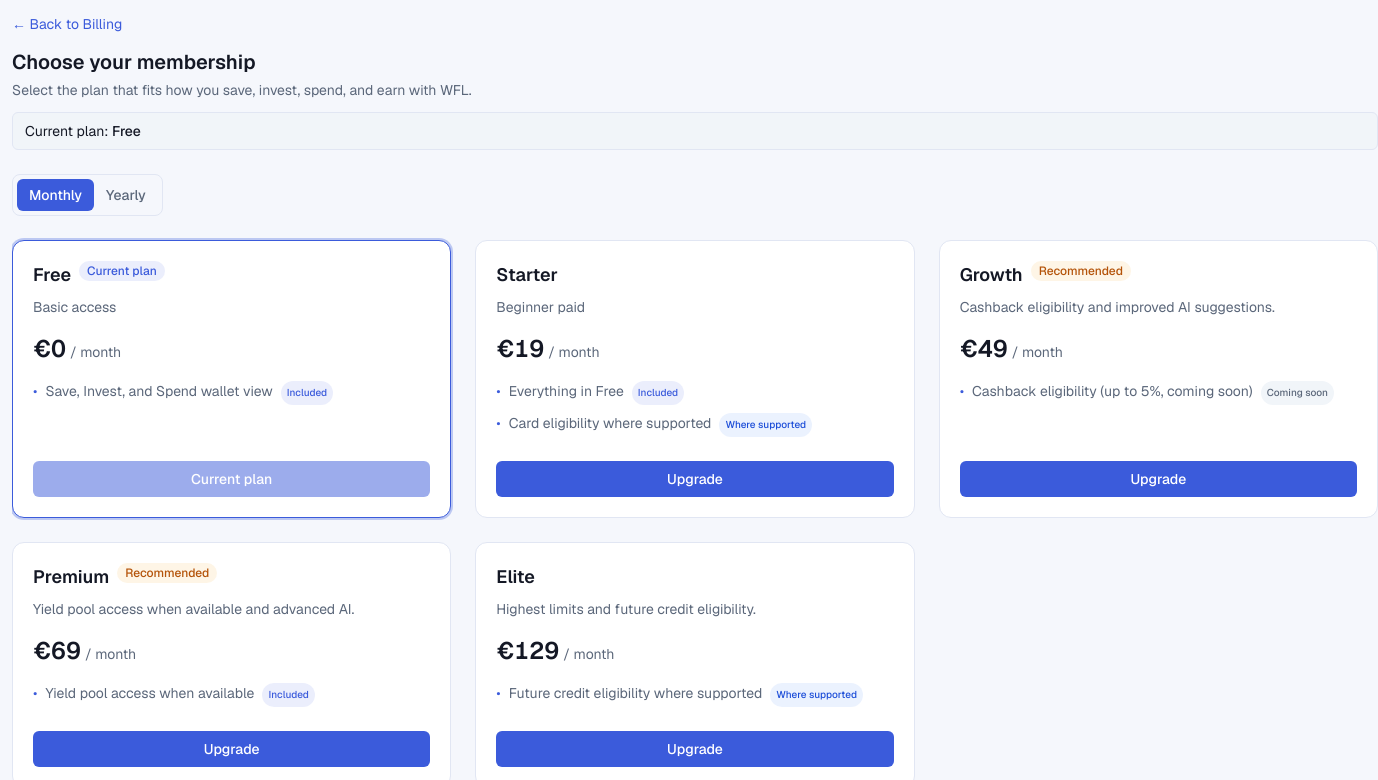
Test: UpgradePlansContent › shows error when checkout succeeds without a payment link
The width and height of the screenshot is (1378, 780).
Click the button "Upgrade" below "Card eligibility where supported".
click(695, 479)  # box [496, 461, 894, 497]
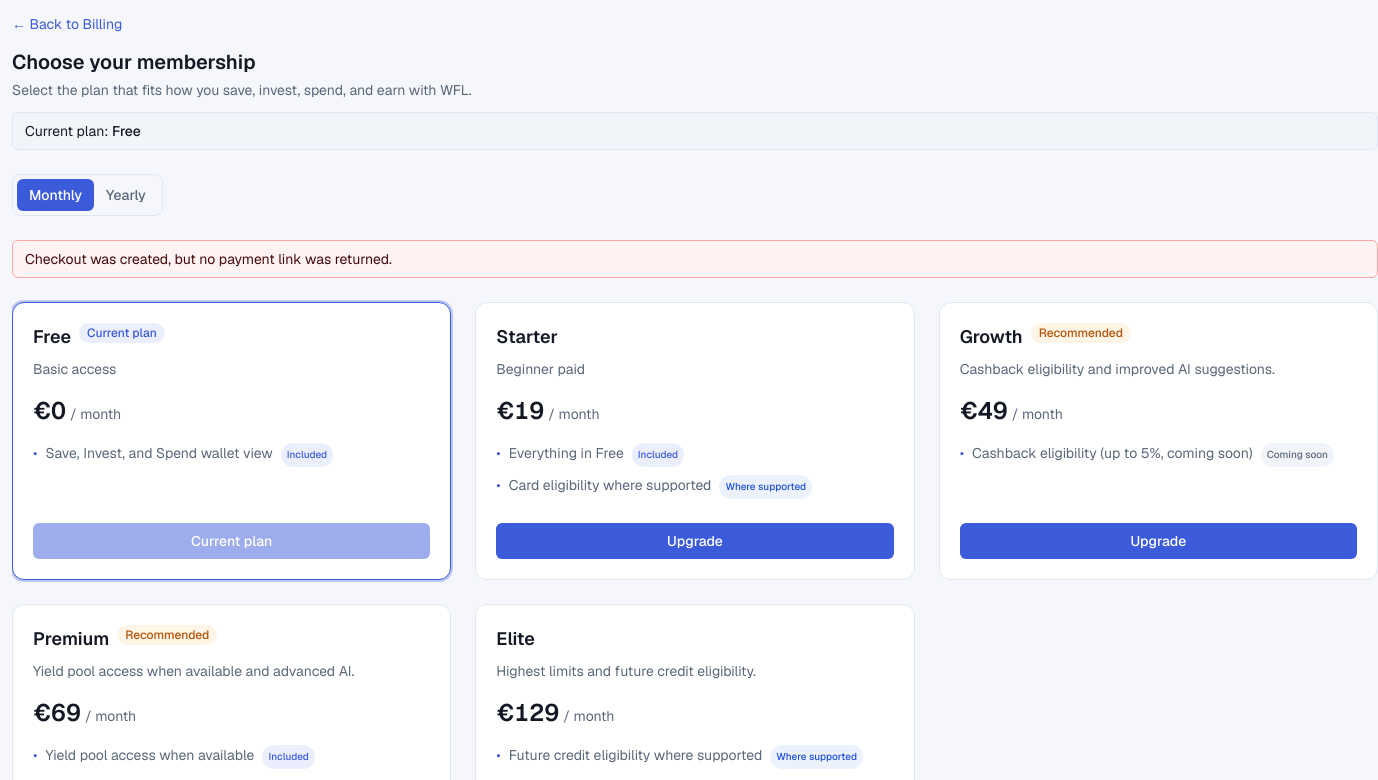
Now the text "Checkout was created, but no payment link was returned." is shown, box [12, 240, 1377, 278]
